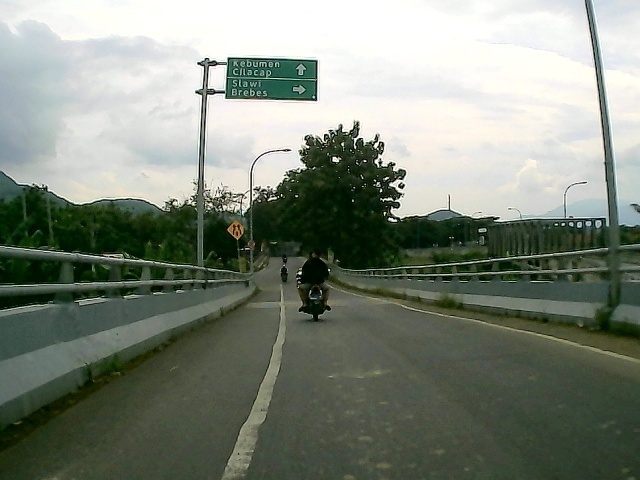Akhir bangunan pemisah satu arah: (224, 219, 246, 242)
